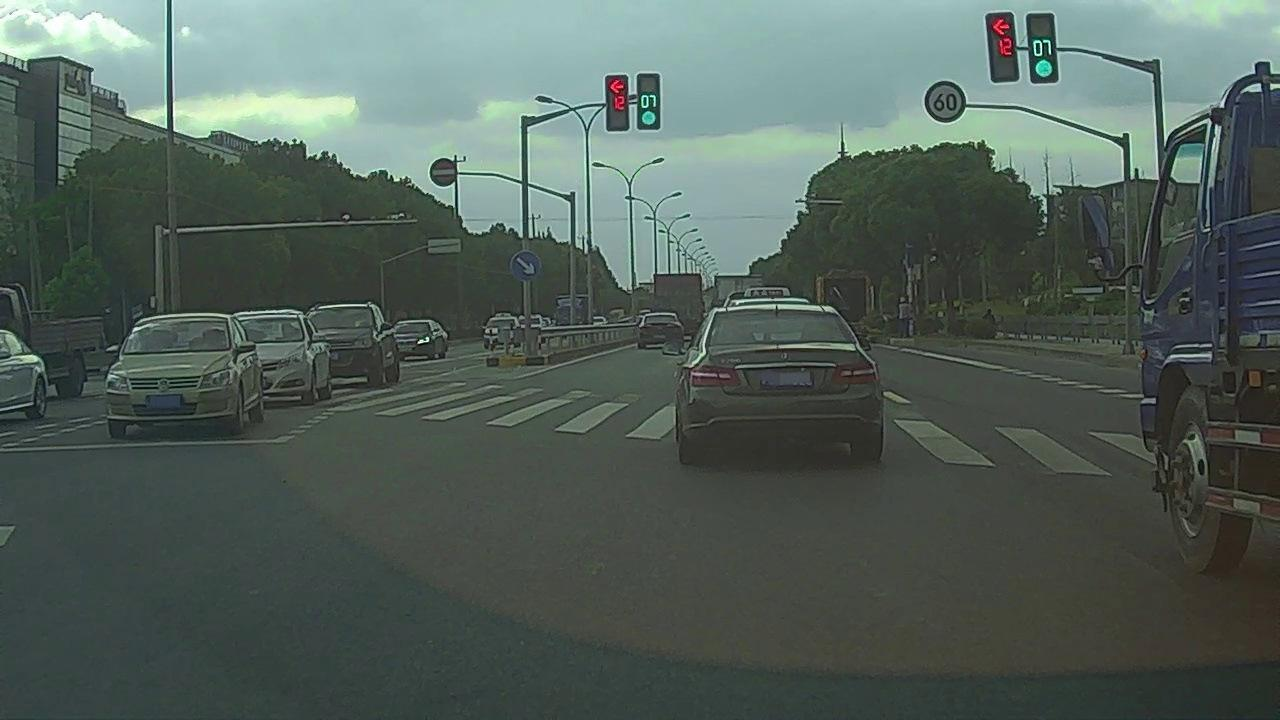traffic_light: (989, 13, 1018, 83), (1029, 13, 1058, 83), (606, 74, 628, 133), (638, 74, 661, 130)
